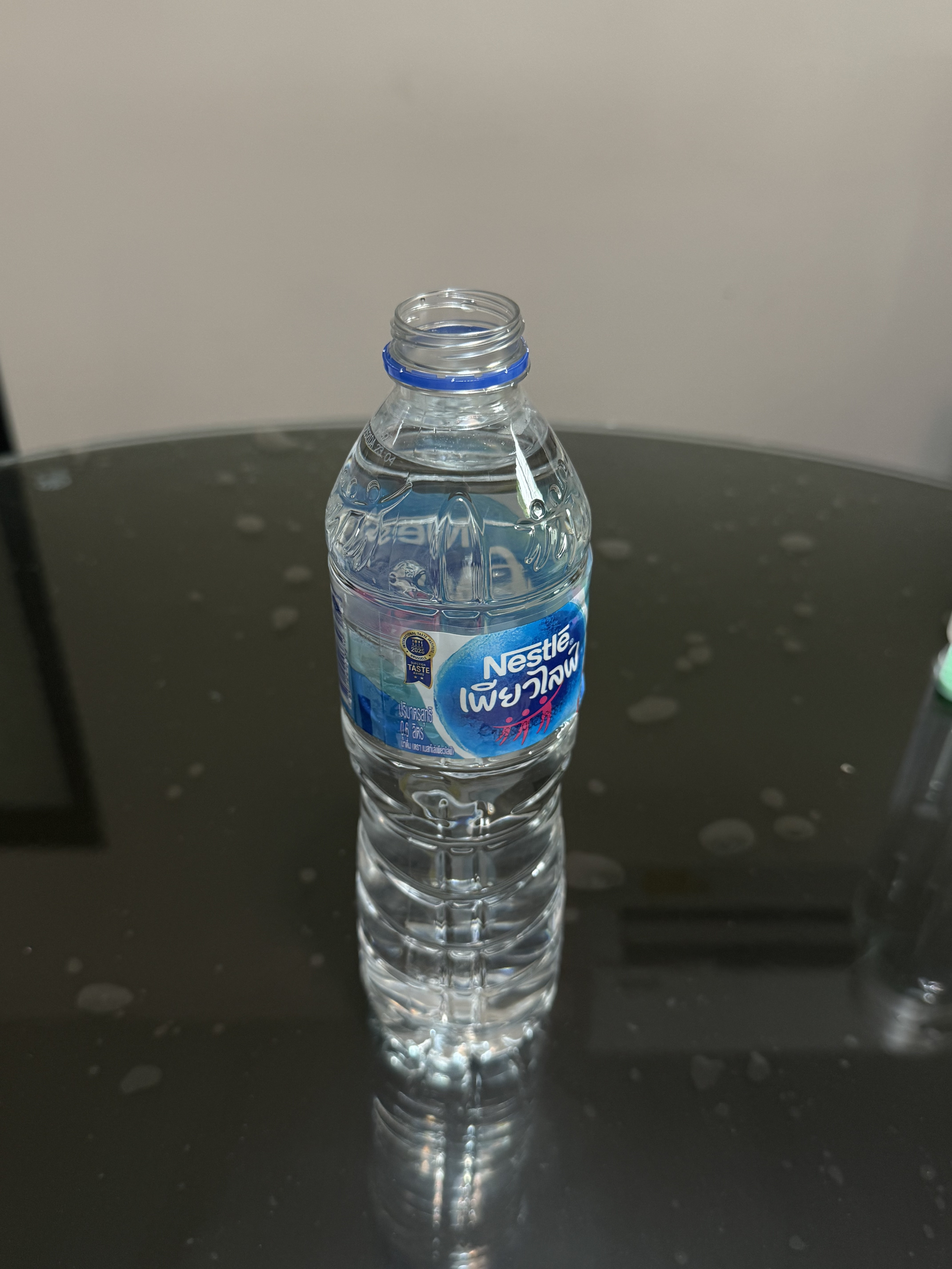no_cap: (378, 283, 535, 393)
